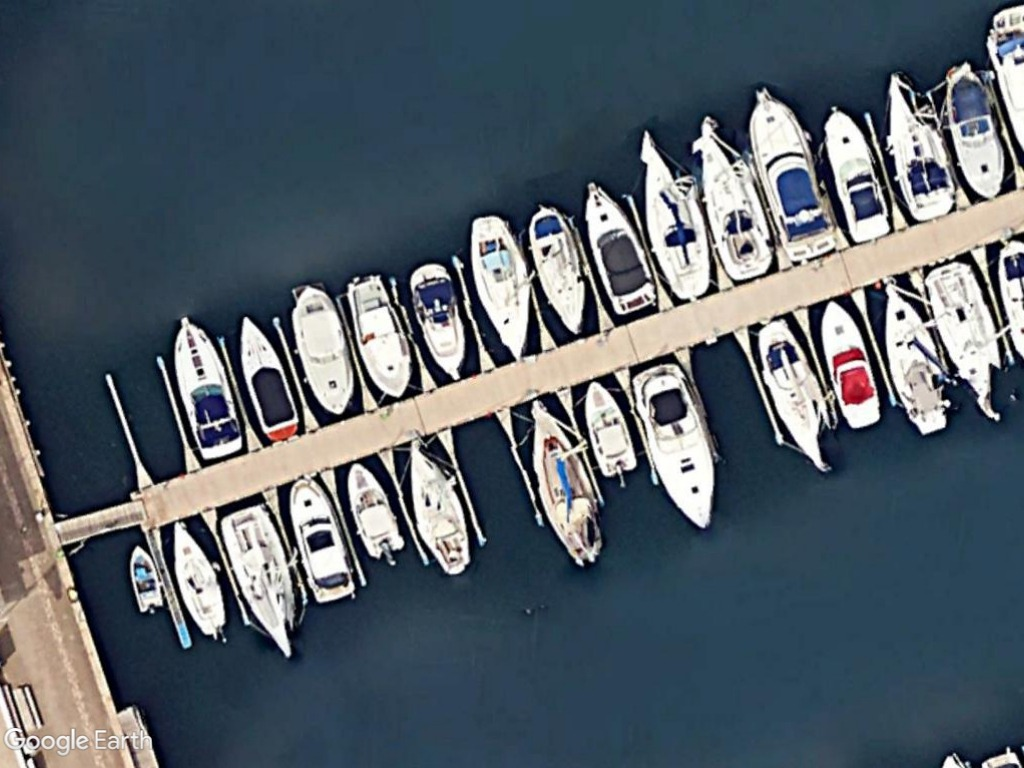boat: (748, 82, 841, 265), (632, 124, 719, 302), (692, 110, 778, 285), (631, 360, 719, 531), (522, 398, 607, 573), (925, 257, 1007, 424), (754, 317, 835, 478), (876, 68, 960, 223), (220, 501, 301, 661), (874, 274, 953, 437), (581, 176, 663, 323), (401, 435, 483, 580), (170, 313, 246, 461), (466, 211, 537, 367), (820, 102, 894, 247), (286, 281, 360, 419), (234, 310, 309, 444), (286, 474, 361, 606), (528, 199, 598, 339), (940, 59, 1009, 201), (344, 270, 415, 408), (405, 257, 473, 385), (822, 294, 884, 432), (166, 517, 231, 646), (345, 457, 410, 562), (583, 375, 639, 482), (126, 542, 169, 620)
